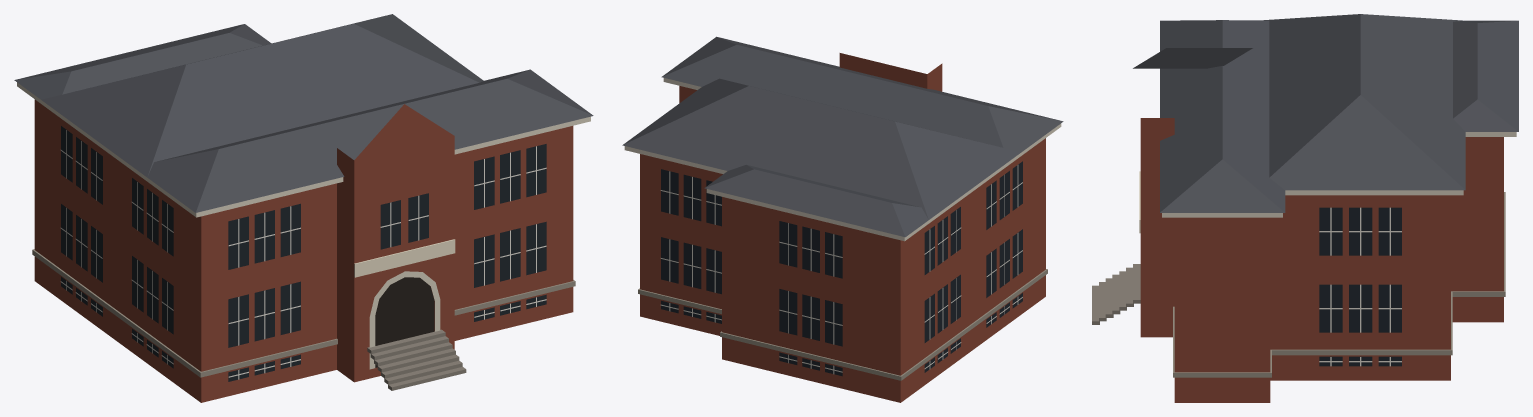
Rendered from little-rock-college-classrooms-1913.glb.
The picture shows the model from 3 angles, left to right: view 1: azimuth 30°, elevation 25°; view 2: azimuth 150°, elevation 25°; view 3: azimuth 270°, elevation 25°; orthographic projection. The views are drawn at different scales.
Parts seen in each view (by area): view 1: kit-little-rock-college-classrooms-1913; view 2: kit-little-rock-college-classrooms-1913; view 3: kit-little-rock-college-classrooms-1913.
Part boxes in pixels (x1,y1,x2,y2): kit-little-rock-college-classrooms-1913: (14,14,593,402); kit-little-rock-college-classrooms-1913: (622,36,1063,402); kit-little-rock-college-classrooms-1913: (1092,14,1518,402).
Bounding box in the file's own units: 21.4 × 13.77 × 20.09.
